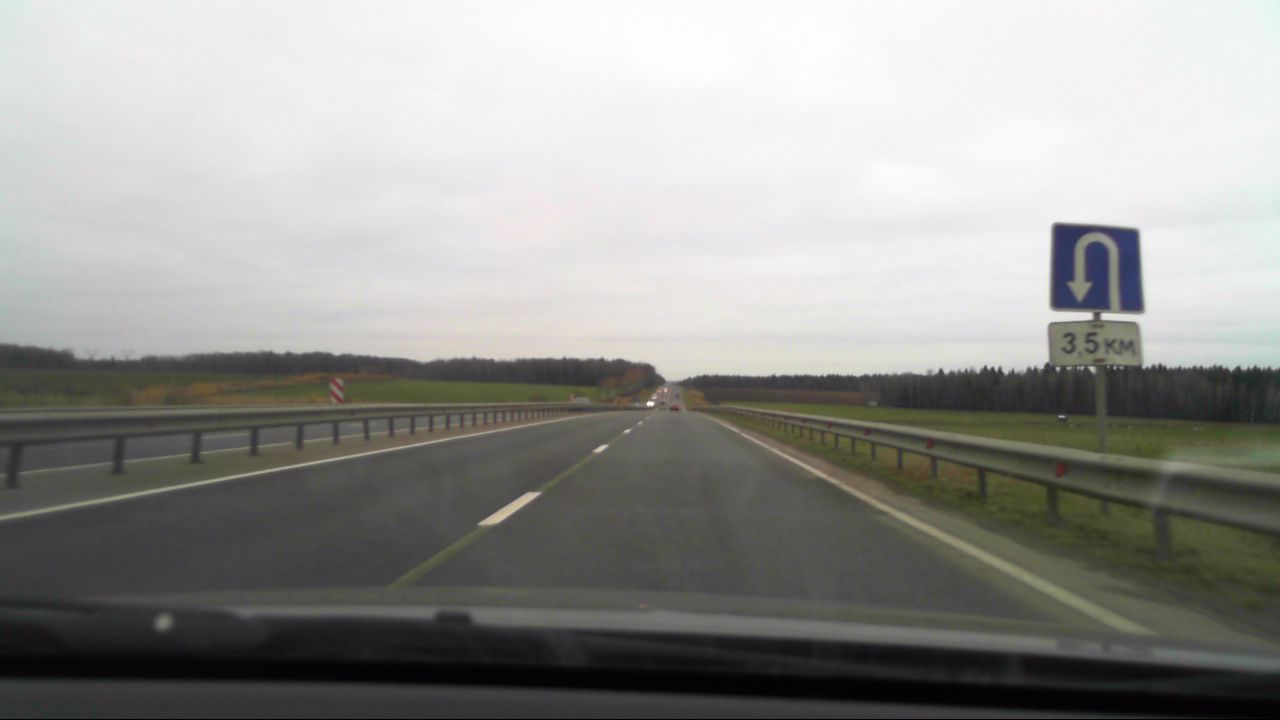U-turn: (1053, 224, 1142, 311)
